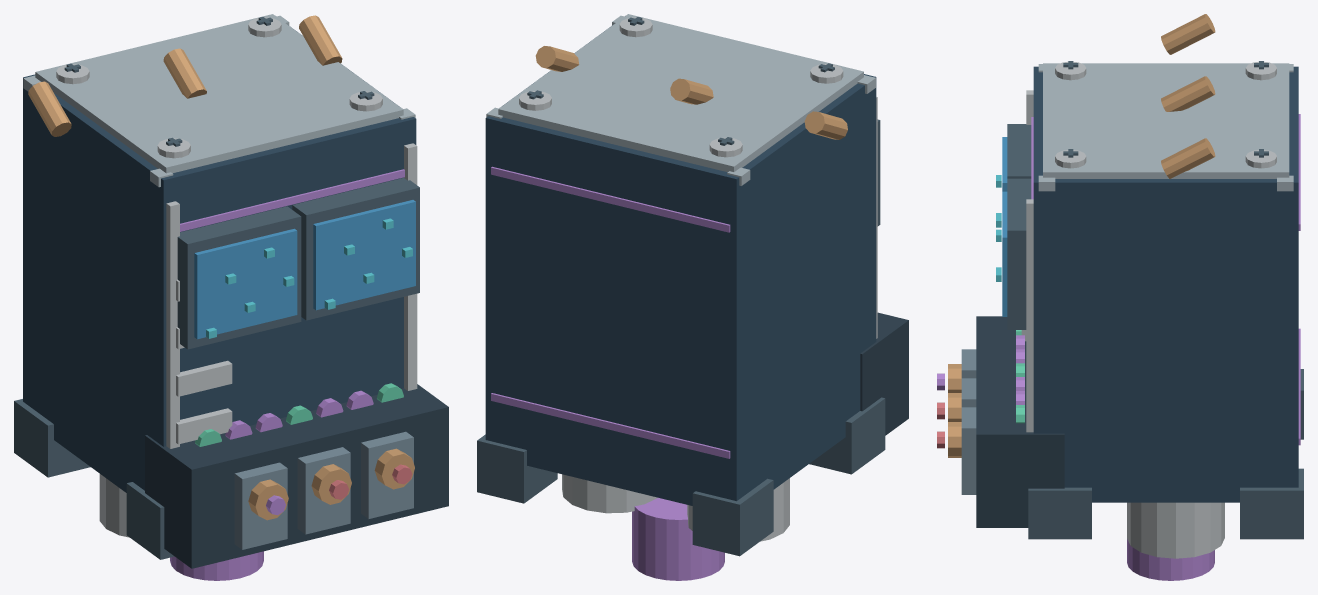
File: 38_L77_DualWavelengthBarrierEndpointSpectrometer.glb
The picture shows the model from 3 angles, left to right: view 1: azimuth 30°, elevation 25°; view 2: azimuth 150°, elevation 25°; view 3: azimuth 270°, elevation 25°; orthographic projection. The views are drawn at different scales.
Visible parts, largest first — view 1: DualWavelengthBarrierEndpointSpectrometer_Node_0000, DualWavelengthBarrierEndpointSpectrometer_Node_0007, DualWavelengthBarrierEndpointSpectrometer_Node_0049, DualWavelengthBarrierEndpointSpectrometer_Node_0025, DualWavelengthBarrierEndpointSpectrometer_Node_0032, DualWavelengthBarrierEndpointSpectrometer_Node_0024, DualWavelengthBarrierEndpointSpectrometer_Node_0031, DualWavelengthBarrierEndpointSpectrometer_Node_0050, DualWavelengthBarrierEndpointSpectrometer_Node_0053, DualWavelengthBarrierEndpointSpectrometer_Node_0045, DualWavelengthBarrierEndpointSpectrometer_Node_0056, DualWavelengthBarrierEndpointSpectrometer_Node_0005 (+13 smaller); view 2: DualWavelengthBarrierEndpointSpectrometer_Node_0000, DualWavelengthBarrierEndpointSpectrometer_Node_0007, DualWavelengthBarrierEndpointSpectrometer_Node_0069, DualWavelengthBarrierEndpointSpectrometer_Node_0045, DualWavelengthBarrierEndpointSpectrometer_Node_0049, DualWavelengthBarrierEndpointSpectrometer_Node_0047, DualWavelengthBarrierEndpointSpectrometer_Node_0046, DualWavelengthBarrierEndpointSpectrometer_Node_0068, DualWavelengthBarrierEndpointSpectrometer_Node_0022, DualWavelengthBarrierEndpointSpectrometer_Node_0020, DualWavelengthBarrierEndpointSpectrometer_Node_0067, DualWavelengthBarrierEndpointSpectrometer_Node_0064 (+2 smaller); view 3: DualWavelengthBarrierEndpointSpectrometer_Node_0000, DualWavelengthBarrierEndpointSpectrometer_Node_0007, DualWavelengthBarrierEndpointSpectrometer_Node_0049, DualWavelengthBarrierEndpointSpectrometer_Node_0068, DualWavelengthBarrierEndpointSpectrometer_Node_0047, DualWavelengthBarrierEndpointSpectrometer_Node_0048, DualWavelengthBarrierEndpointSpectrometer_Node_0031, DualWavelengthBarrierEndpointSpectrometer_Node_0069, DualWavelengthBarrierEndpointSpectrometer_Node_0006, DualWavelengthBarrierEndpointSpectrometer_Node_0056, DualWavelengthBarrierEndpointSpectrometer_Node_0024, DualWavelengthBarrierEndpointSpectrometer_Node_0064 (+6 smaller).
Boxes of the visible parts, x1,y1,x2,y2 form: DualWavelengthBarrierEndpointSpectrometer_Node_0000: [23, 25, 416, 492]; DualWavelengthBarrierEndpointSpectrometer_Node_0007: [35, 14, 403, 173]; DualWavelengthBarrierEndpointSpectrometer_Node_0049: [145, 384, 448, 568]; DualWavelengthBarrierEndpointSpectrometer_Node_0025: [194, 228, 297, 339]; DualWavelengthBarrierEndpointSpectrometer_Node_0032: [313, 200, 415, 310]; DualWavelengthBarrierEndpointSpectrometer_Node_0024: [177, 206, 301, 349]; DualWavelengthBarrierEndpointSpectrometer_Node_0031: [292, 178, 419, 320]; DualWavelengthBarrierEndpointSpectrometer_Node_0050: [234, 462, 287, 549]; DualWavelengthBarrierEndpointSpectrometer_Node_0053: [297, 447, 350, 534]; DualWavelengthBarrierEndpointSpectrometer_Node_0045: [14, 399, 90, 477]; DualWavelengthBarrierEndpointSpectrometer_Node_0056: [361, 431, 413, 518]; DualWavelengthBarrierEndpointSpectrometer_Node_0005: [166, 201, 179, 448]; DualWavelengthBarrierEndpointSpectrometer_Node_0000: [485, 27, 876, 505]; DualWavelengthBarrierEndpointSpectrometer_Node_0007: [498, 14, 863, 172]; DualWavelengthBarrierEndpointSpectrometer_Node_0069: [632, 497, 724, 580]; DualWavelengthBarrierEndpointSpectrometer_Node_0045: [692, 478, 773, 556]; DualWavelengthBarrierEndpointSpectrometer_Node_0049: [860, 312, 908, 435]; DualWavelengthBarrierEndpointSpectrometer_Node_0047: [477, 434, 557, 503]; DualWavelengthBarrierEndpointSpectrometer_Node_0046: [809, 397, 885, 474]; DualWavelengthBarrierEndpointSpectrometer_Node_0068: [562, 474, 657, 513]; DualWavelengthBarrierEndpointSpectrometer_Node_0022: [491, 166, 730, 232]; DualWavelengthBarrierEndpointSpectrometer_Node_0020: [491, 393, 730, 458]; DualWavelengthBarrierEndpointSpectrometer_Node_0067: [687, 478, 789, 541]; DualWavelengthBarrierEndpointSpectrometer_Node_0064: [804, 111, 847, 139]; DualWavelengthBarrierEndpointSpectrometer_Node_0000: [1033, 66, 1298, 502]; DualWavelengthBarrierEndpointSpectrometer_Node_0007: [1043, 63, 1289, 178]; DualWavelengthBarrierEndpointSpectrometer_Node_0049: [976, 316, 1064, 527]; DualWavelengthBarrierEndpointSpectrometer_Node_0068: [1127, 502, 1224, 558]; DualWavelengthBarrierEndpointSpectrometer_Node_0047: [1240, 468, 1303, 539]; DualWavelengthBarrierEndpointSpectrometer_Node_0048: [1028, 487, 1091, 539]; DualWavelengthBarrierEndpointSpectrometer_Node_0031: [1007, 178, 1031, 329]; DualWavelengthBarrierEndpointSpectrometer_Node_0069: [1127, 539, 1214, 580]; DualWavelengthBarrierEndpointSpectrometer_Node_0006: [1026, 199, 1033, 432]; DualWavelengthBarrierEndpointSpectrometer_Node_0056: [961, 407, 976, 494]; DualWavelengthBarrierEndpointSpectrometer_Node_0024: [1007, 124, 1031, 178]; DualWavelengthBarrierEndpointSpectrometer_Node_0064: [1161, 14, 1215, 54].
Bounding box in the file's own units: 0.6651 × 1.07 × 0.748.
